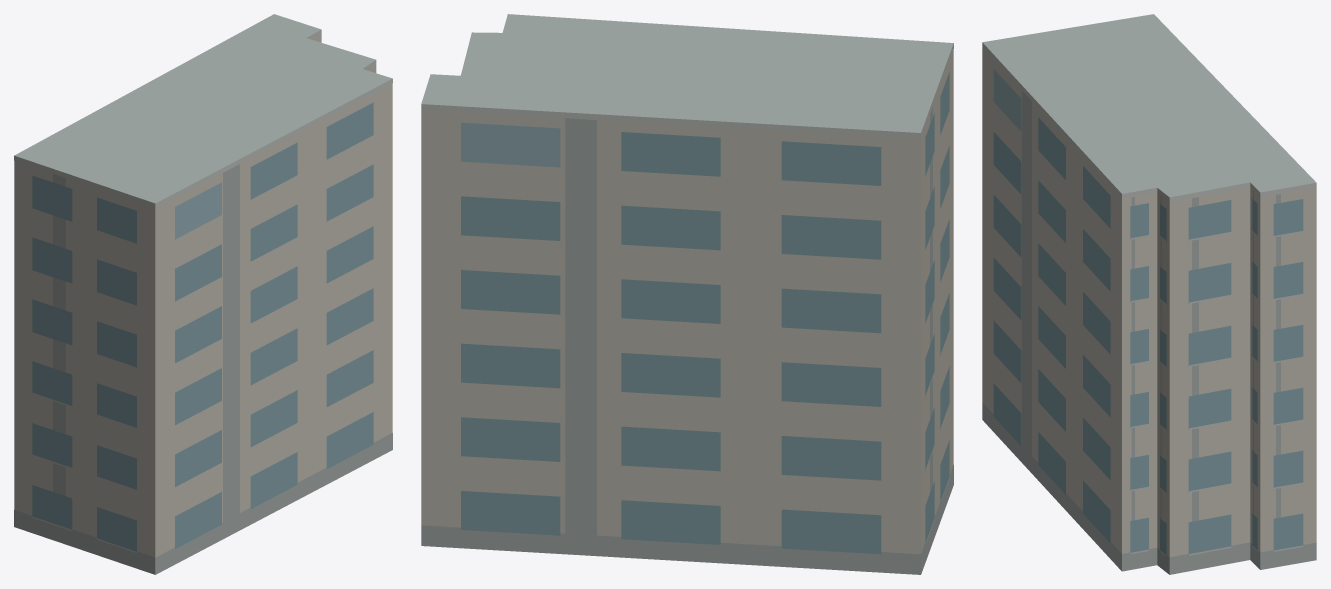
File: survey-upis-32820159.glb
The picture shows the model from 3 angles, left to right: view 1: azimuth 30°, elevation 25°; view 2: azimuth 150°, elevation 25°; view 3: azimuth 270°, elevation 25°; orthographic projection. The views are drawn at different scales.
Visible parts, largest first — view 1: survey-upis-32820159.tmp; view 2: survey-upis-32820159.tmp; view 3: survey-upis-32820159.tmp.
Boxes of the visible parts, x1,y1,x2,y2 form: survey-upis-32820159.tmp: (14, 14, 392, 574); survey-upis-32820159.tmp: (421, 14, 953, 574); survey-upis-32820159.tmp: (982, 14, 1316, 574).
Bounding box in the file's own units: 19.08 × 18.3 × 14.7.
